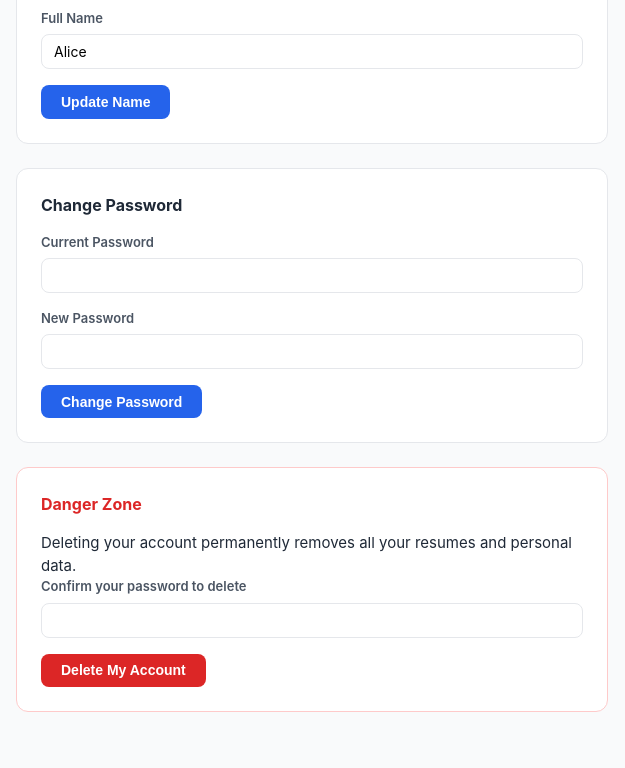
Test: Profile delete account › shows an error message when deletion fails
(page scrolled)
Type "mypassword123" into the password field labelled "Confirm your password to delete" at (312, 620), box [41, 603, 583, 638]
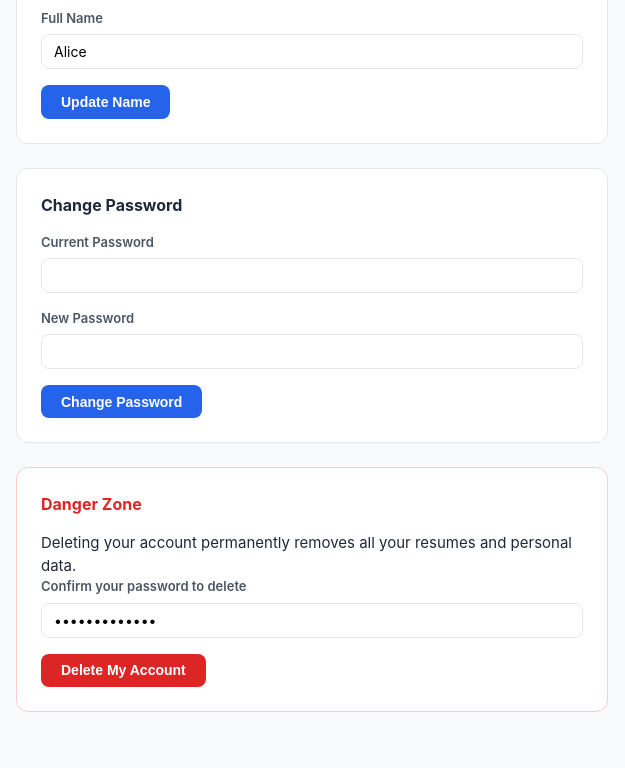
Click the button "Delete My Account" at (123, 670), box [41, 654, 206, 687]
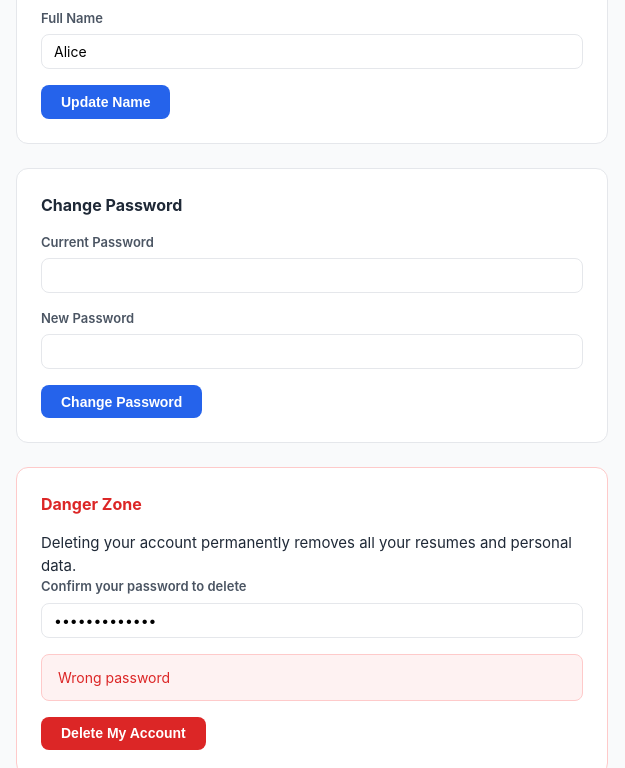
Expected: the text "Wrong password" is shown, [41, 654, 583, 701]
